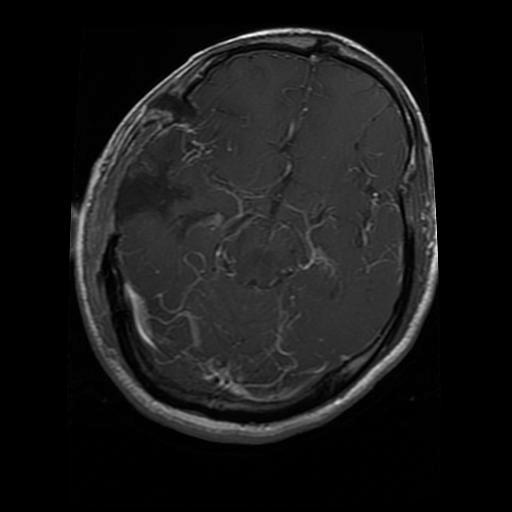Tumour-Glioma: (111, 147, 204, 249)
